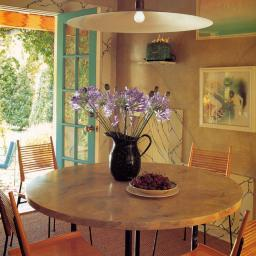Puerta: (56, 16, 97, 163)
